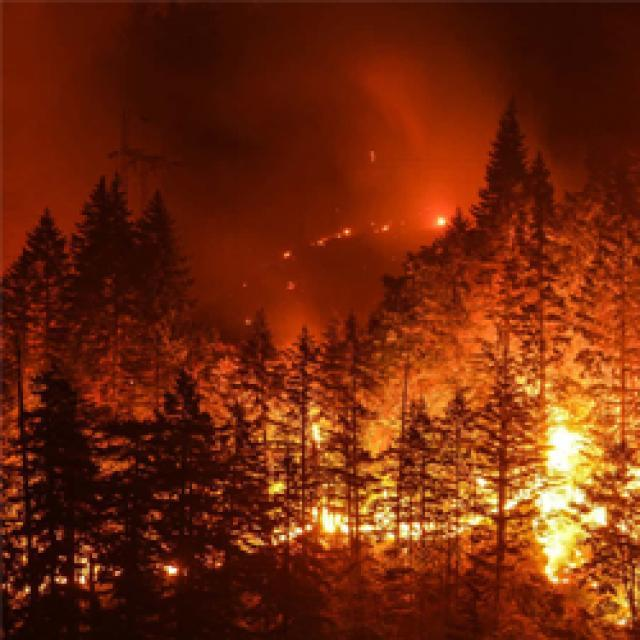Fire: (484, 353, 640, 640), (158, 474, 529, 581), (225, 333, 384, 552), (0, 484, 186, 616), (329, 170, 502, 233), (252, 219, 395, 277)
Smoke: (0, 0, 532, 171), (0, 0, 125, 294)
